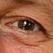eye: (19, 20, 34, 30)
